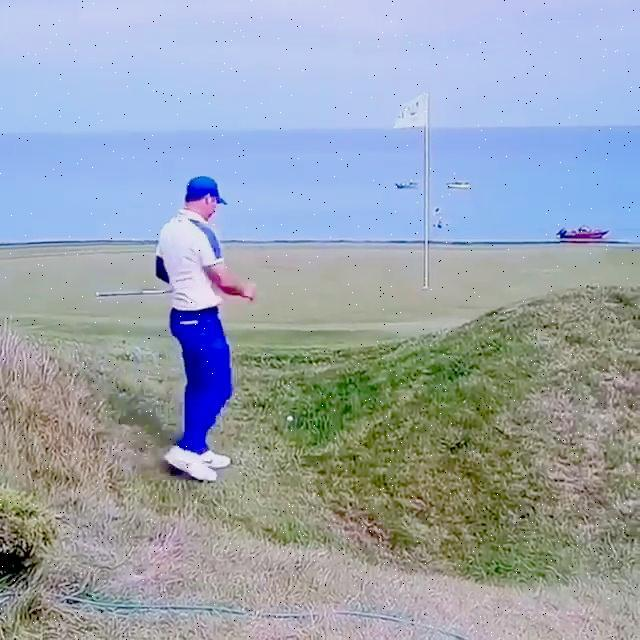ClubHandle: (95, 289, 172, 296)
GolfBall: (286, 416, 293, 421)
